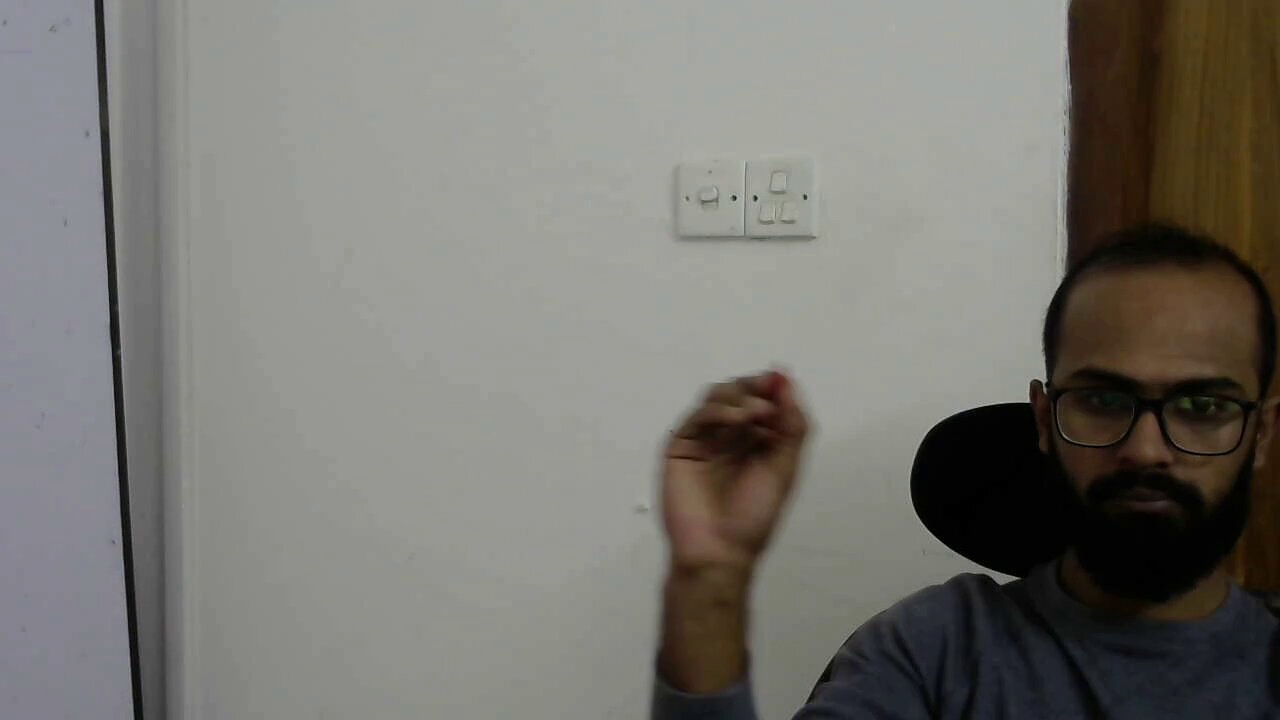pointer: (671, 370, 810, 498)
